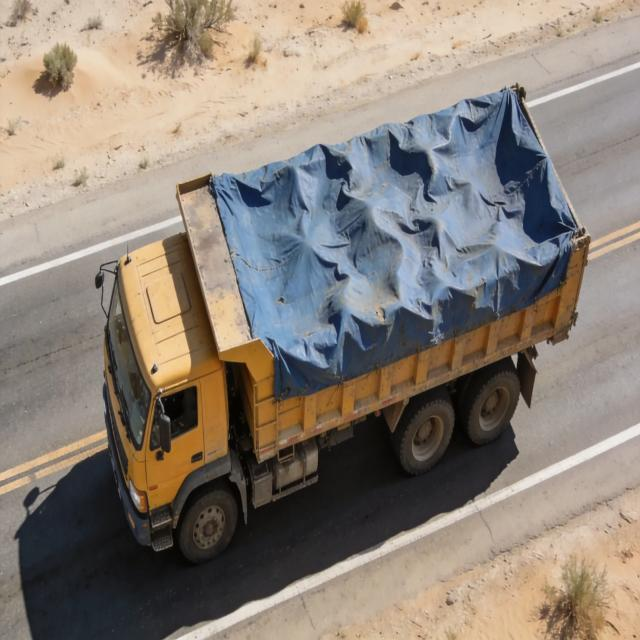Box: (170, 84, 593, 360)
Truck: (92, 65, 602, 555)
